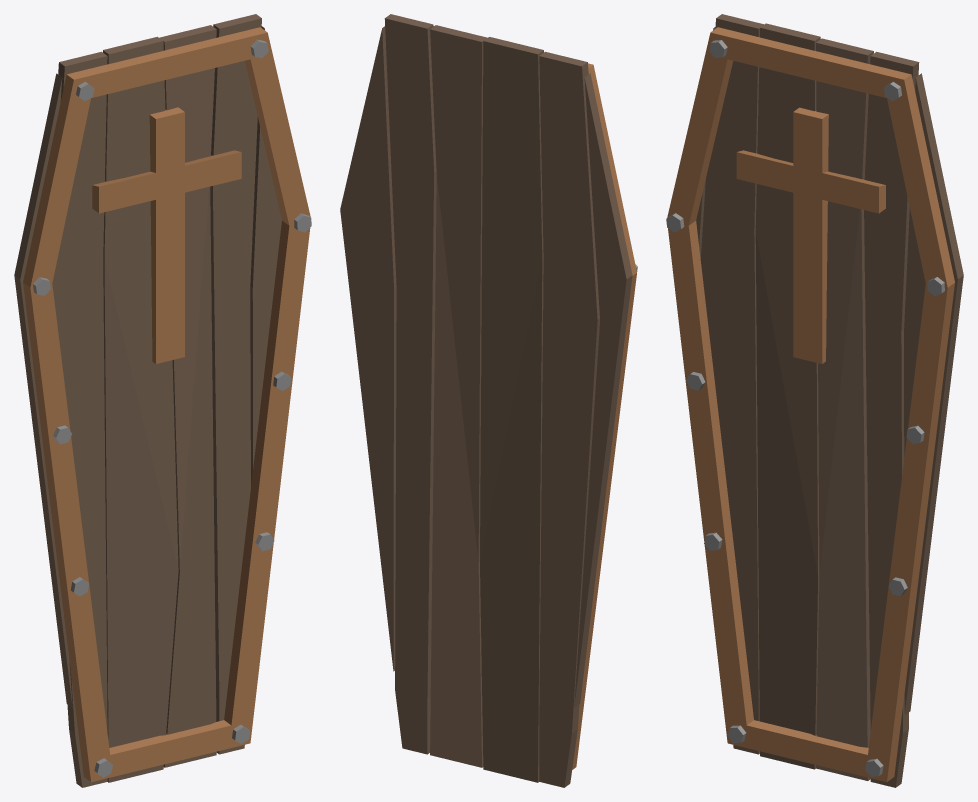
The model's file is Coffin_lid_1.fbx.
3 views of the same model, side by side, from view 1: azimuth 30°, elevation 25°; view 2: azimuth 150°, elevation 25°; view 3: azimuth 330°, elevation 25° (orthographic).
Parts seen in each view (by area): view 1: Coffin_lid_1; view 2: Coffin_lid_1; view 3: Coffin_lid_1.
Part boxes in pixels (left/top/right/bottom): Coffin_lid_1: left=14, top=14, right=311, bottom=787; Coffin_lid_1: left=340, top=14, right=637, bottom=787; Coffin_lid_1: left=666, top=14, right=963, bottom=787.
Bounding box in the file's own units: 83.93 × 8.36 × 204.
